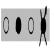correct: (15, 14, 22, 37)
no answer: (27, 12, 35, 37)
not correct: (39, 5, 47, 48)
